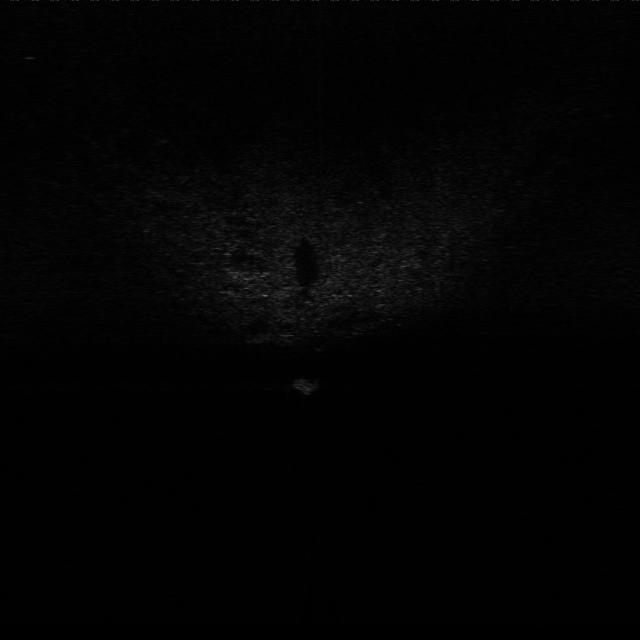cube: (290, 373, 326, 397)
